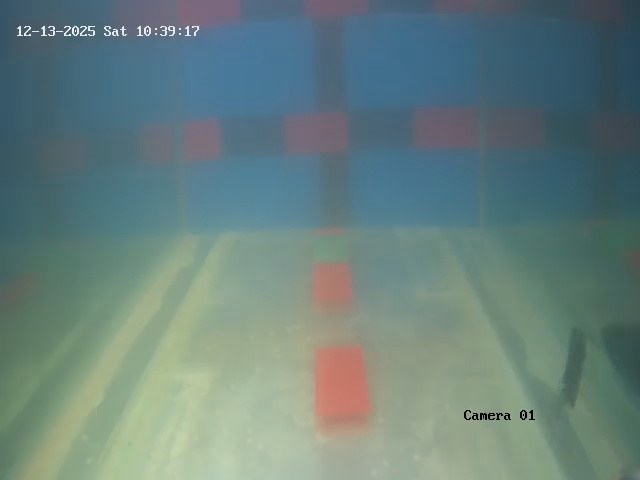fish: (549, 325, 595, 414)
